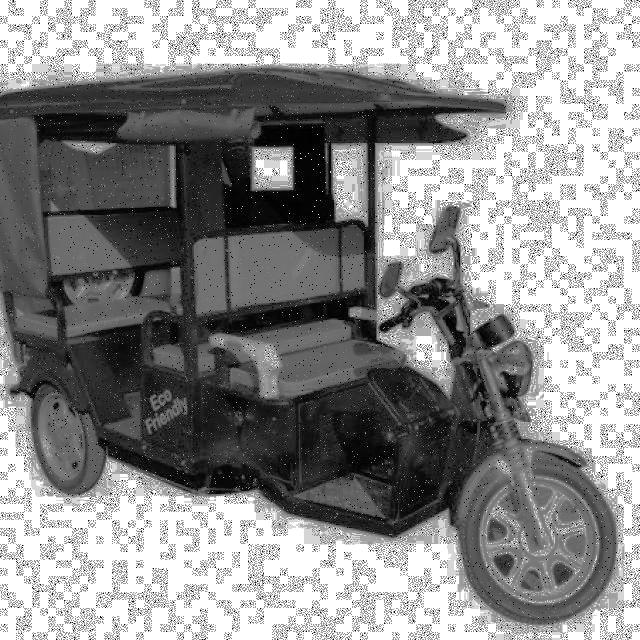Toto: (0, 58, 606, 620)
